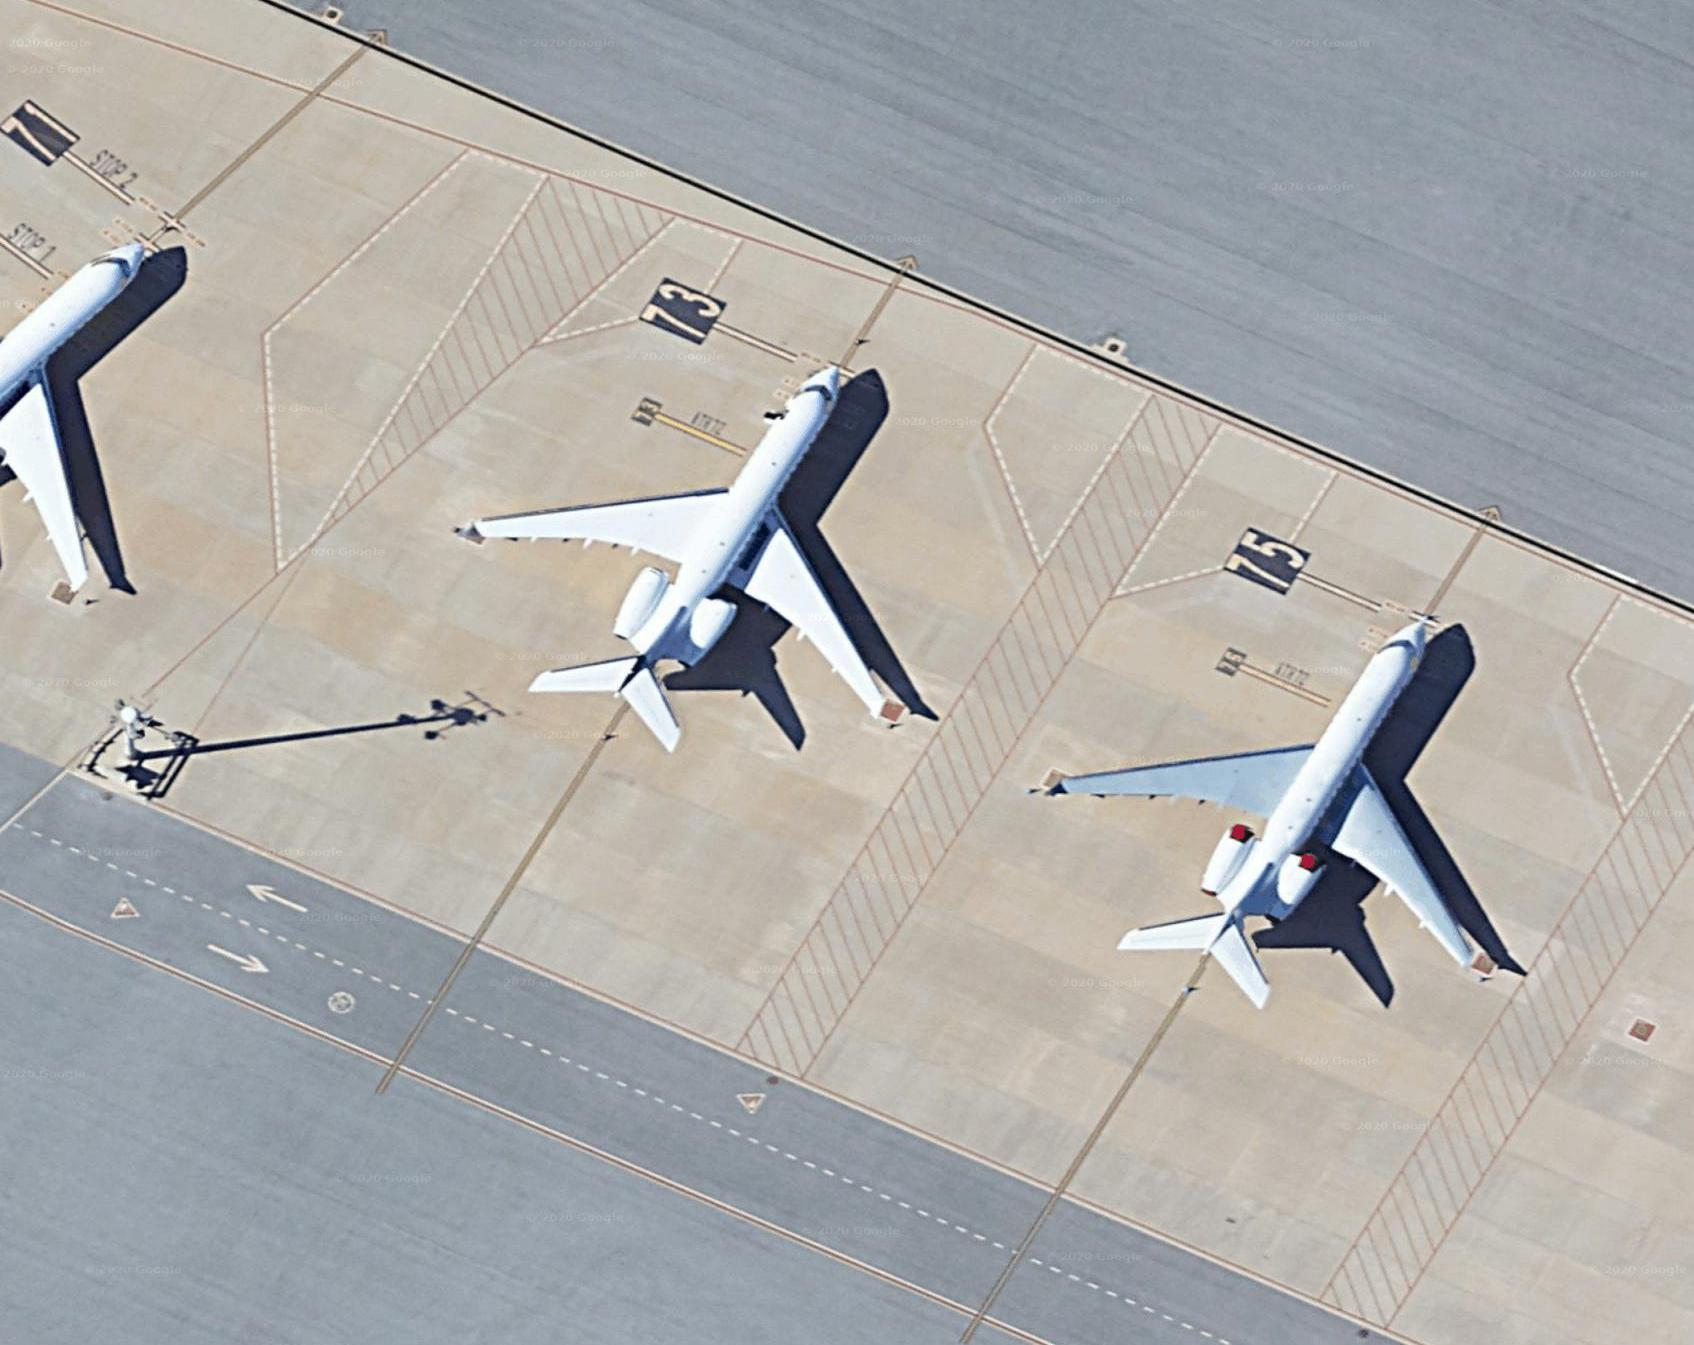plane: (982, 518, 1616, 1104), (384, 294, 1001, 822), (1, 168, 239, 695)
